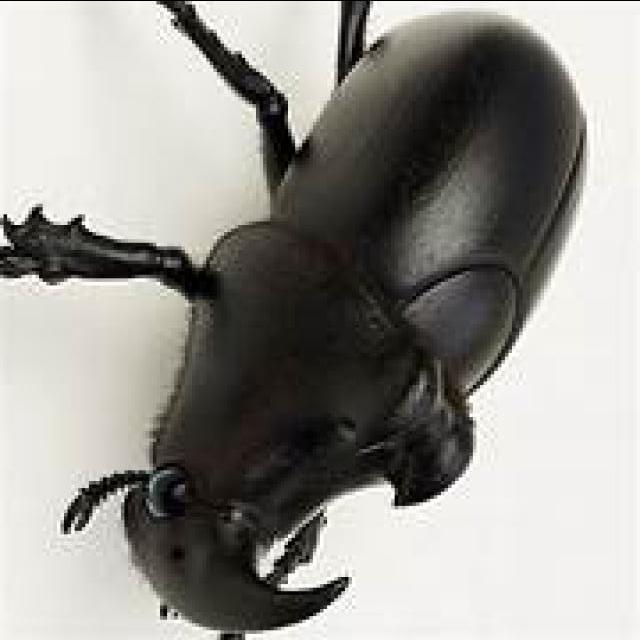Rhino-beetle: (58, 1, 592, 639)
